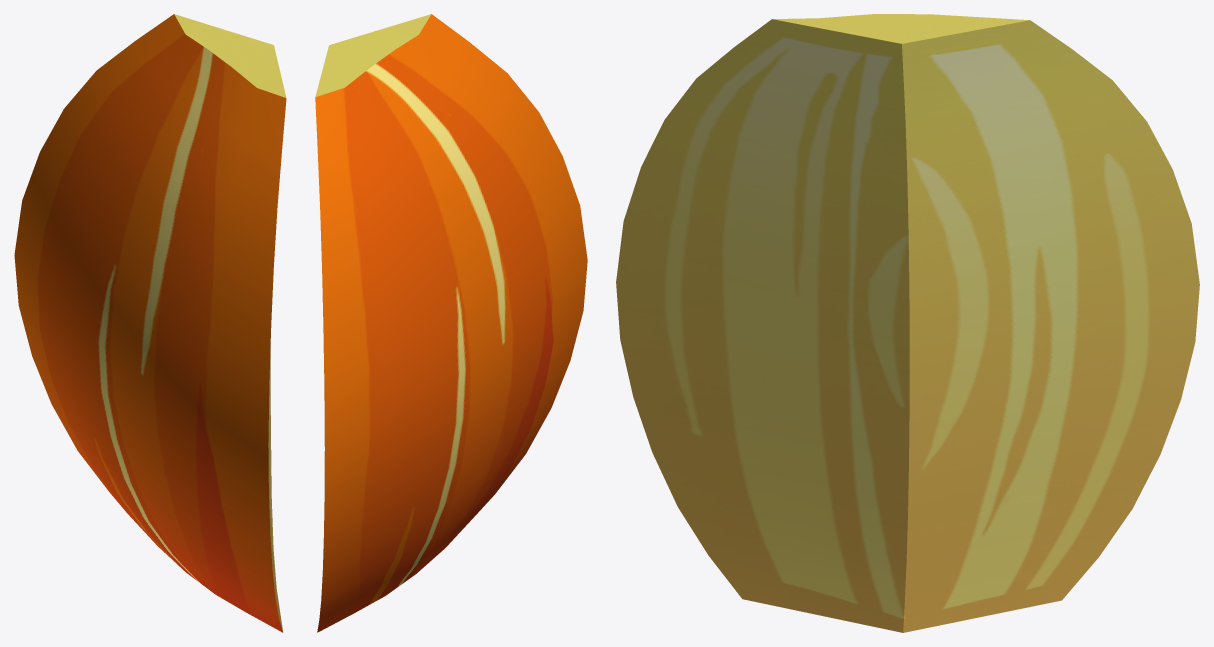
File: onionSlice3_-_texture_res_change.fbx
3 views of the same model, side by side, from view 1: azimuth 30°, elevation 25°; view 2: azimuth 150°, elevation 25°; view 3: azimuth 270°, elevation 25° (orthographic). The views are drawn at different scales.
Parts seen in each view (by area): view 1: onionSlice; view 2: onionSlice; view 3: onionSlice.
Boxes of the visible parts, x1,y1,x2,y2 form: onionSlice: [14, 14, 286, 632]; onionSlice: [315, 14, 587, 632]; onionSlice: [616, 14, 1199, 632].
Bounding box in the file's own units: 165 × 536 × 481.
Materials: 2 (2 with a texture image).
